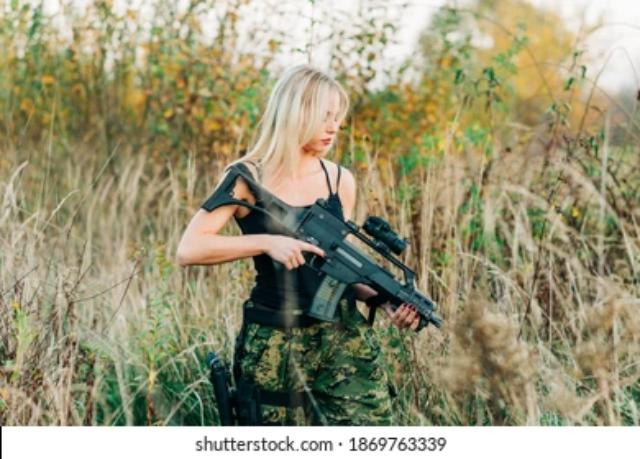other: (175, 65, 391, 422)
